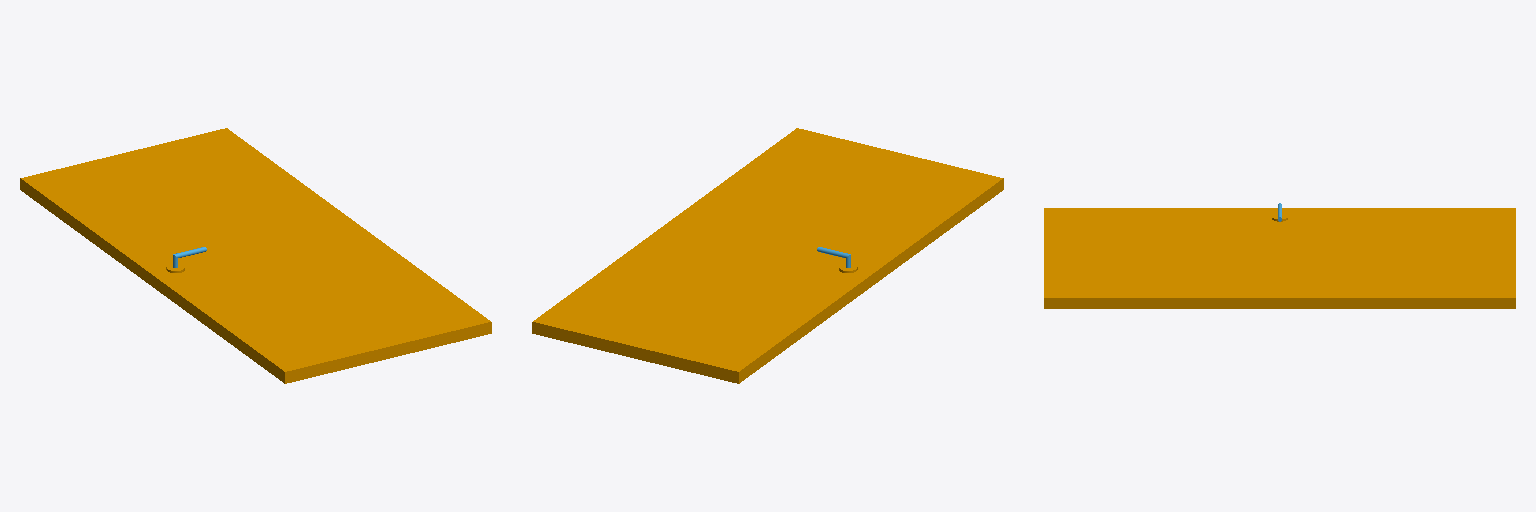
robot.urdf — door:
<?xml version="1.0" encoding="utf-8" ?>
<robot name="door">
  <material name="body">
    <color rgba=".8 .6 .4 1"/>
  </material>

  <link name="base">
    <visual>
      <origin rpy="0 0 0"/>
      <geometry>
        <mesh filename="door.obj"/>
      </geometry>
      <!-- <material name="body"/> -->
    </visual>
    <collision>
      <origin rpy="0 0 0"/>
      <geometry>
        <mesh filename="door.obj"/>
      </geometry>
    </collision>
    <visual>
      <origin rpy="0 0 0"/>
      <geometry>
        <mesh filename="door_plate.obj"/>
      </geometry>
      <!-- <material name="body"/> -->
    </visual>
    <collision>
      <origin rpy="0 0 0"/>
      <geometry>
        <mesh filename="door_plate.obj"/>
      </geometry>
    </collision>
    <inertial>
      <origin xyz="0 0 0" rpy="0 0 0"/>
      <mass value="1"/>
      <inertia ixx="0.01" ixy="0" ixz="0" iyy="0.01" iyz="0" izz="0.01"/>
    </inertial>
  </link>


  <joint name="joint1" type="revolute">
    <origin xyz="0 0 0"/>
    <parent link="base"/>
    <child link="lever"/>
    <axis xyz="0 0 1"/>
    <limit lower="-0.6981" upper="0.6981"/>
    <dynamics friction="0.06"/>
  </joint>


  <link name="lever">
    <visual>
      <origin rpy="0 0 0"/>
      <geometry>
        <mesh filename="door_lever.obj"/>
      </geometry>
      <!-- <material name="body"/> -->
    </visual>
    <collision>
      <origin rpy="0 0 0"/>
      <geometry>
        <mesh filename="door_lever.obj"/>
      </geometry>
    </collision>
    <inertial>
      <origin xyz="0.06 0 0.045" rpy="0 0 0"/>
      <mass value="0.1"/>
      <inertia ixx="0.0001658" ixy="0" ixz="0" iyy="0.0001658" iyz="0" izz="0.000005"/>
    </inertial>
  </link>
</robot>

--- What the picture shows (computed from the rendered views, not written in the file) ---
The picture shows the robot from 3 angles, left to right: view 1: azimuth 30°, elevation 25°; view 2: azimuth 150°, elevation 25°; view 3: azimuth 270°, elevation 25°; orthographic projection.
Model door with 2 links and 1 joints (1 revolute), rooted at base, posed all joints at 0.
Links seen in each view (by area): view 1: base; view 2: base; view 3: base.
Link boxes in pixels (x1,y1,x2,y2): base: (20, 128, 491, 383); base: (532, 128, 1003, 383); base: (1044, 208, 1515, 308).
Bounding box of the posed robot: 0.9 × 2 × 0.115 m (x, y, z).
Meshes: 3 distinct files referenced, 3 mesh visuals loaded (3 OBJ).